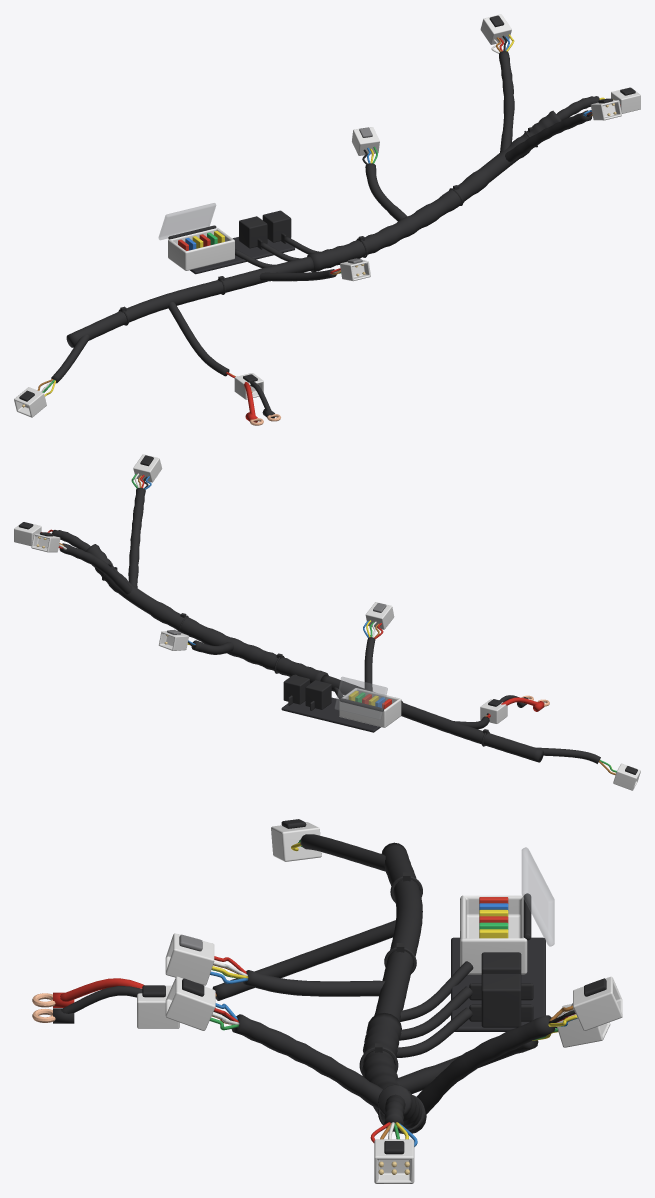
File: wiring_harness.glb
The picture shows the model from 3 angles, top to bottom: view 1: azimuth 30°, elevation 25°; view 2: azimuth 150°, elevation 25°; view 3: azimuth 270°, elevation 25°; orthographic projection. The views are drawn at different scales.
Parts seen in each view (by area): view 1: wiring_harness__trunk_corrugated, wiring_harness__trunk_taped, wiring_harness__fuse_box, wiring_harness__relays, wiring_harness__wires, wiring_harness__branch_right_switch, wiring_harness__branch_left_switch, wiring_harness__tray, wiring_harness__branch_battery_leads, wiring_harness__branch_ignition, wiring_harness__conn_tail_light, wiring_harness__battery_terminals (+4 smaller); view 2: wiring_harness__trunk_corrugated, wiring_harness__trunk_taped, wiring_harness__fuse_box, wiring_harness__relays, wiring_harness__tray, wiring_harness__branch_left_switch, wiring_harness__branch_right_switch, wiring_harness__wires, wiring_harness__conn_left_switch, wiring_harness__conn_regulator, wiring_harness__conn_ignition, wiring_harness__conn_battery_leads (+4 smaller); view 3: wiring_harness__fuse_box, wiring_harness__wires, wiring_harness__trunk_taped, wiring_harness__relays, wiring_harness__trunk_corrugated, wiring_harness__branch_left_switch, wiring_harness__branch_right_switch, wiring_harness__tray, wiring_harness__branch_battery_leads, wiring_harness__battery_terminals, wiring_harness__branch_regulator, wiring_harness__conn_left_switch (+11 smaller).
Boxes of the visible parts, x1,y1,x2,y2 form: wiring_harness__trunk_corrugated: [307, 110, 561, 272]; wiring_harness__trunk_taped: [66, 256, 313, 347]; wiring_harness__fuse_box: [158, 203, 234, 270]; wiring_harness__relays: [239, 210, 291, 249]; wiring_harness__wires: [37, 34, 620, 396]; wiring_harness__branch_right_switch: [499, 51, 514, 152]; wiring_harness__branch_left_switch: [505, 110, 592, 161]; wiring_harness__tray: [190, 237, 295, 274]; wiring_harness__branch_battery_leads: [168, 302, 229, 376]; wiring_harness__branch_ignition: [365, 163, 407, 221]; wiring_harness__conn_tail_light: [14, 387, 46, 417]; wiring_harness__battery_terminals: [244, 381, 280, 425]; wiring_harness__trunk_corrugated: [85, 544, 328, 683]; wiring_harness__trunk_taped: [320, 674, 543, 762]; wiring_harness__fuse_box: [334, 677, 401, 727]; wiring_harness__relays: [283, 675, 331, 710]; wiring_harness__tray: [281, 697, 380, 732]; wiring_harness__branch_left_switch: [128, 487, 145, 587]; wiring_harness__branch_right_switch: [59, 543, 132, 594]; wiring_harness__wires: [41, 473, 616, 775]; wiring_harness__conn_left_switch: [133, 454, 162, 482]; wiring_harness__conn_regulator: [365, 602, 394, 629]; wiring_harness__conn_ignition: [158, 629, 188, 650]; wiring_harness__conn_battery_leads: [480, 699, 507, 723]; wiring_harness__fuse_box: [460, 847, 554, 974]; wiring_harness__wires: [209, 840, 577, 1146]; wiring_harness__trunk_taped: [374, 842, 422, 1021]; wiring_harness__relays: [469, 952, 533, 1027]; wiring_harness__trunk_corrugated: [362, 1013, 426, 1133]; wiring_harness__branch_left_switch: [231, 1014, 383, 1109]; wiring_harness__branch_right_switch: [416, 1015, 555, 1114]; wiring_harness__tray: [451, 937, 545, 1031]; wiring_harness__branch_battery_leads: [212, 920, 395, 1000]; wiring_harness__battery_terminals: [32, 978, 144, 1023]; wiring_harness__branch_regulator: [243, 970, 385, 996]; wiring_harness__conn_left_switch: [165, 976, 215, 1030].
Size of the model in its own units: 89.95 by 27.1 by 38.58.
